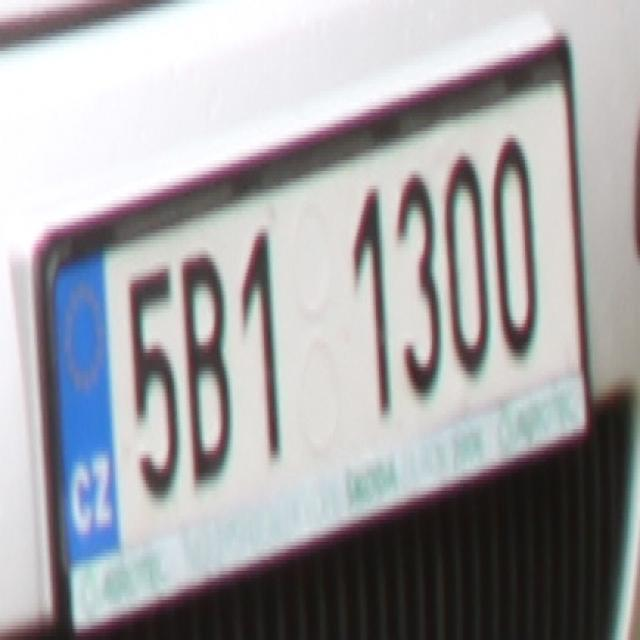0: (492, 124, 540, 364), (444, 146, 491, 374)
1: (240, 226, 284, 469), (348, 182, 389, 429)
3: (396, 167, 442, 400)
5: (124, 265, 178, 513)
B: (180, 251, 239, 491)
